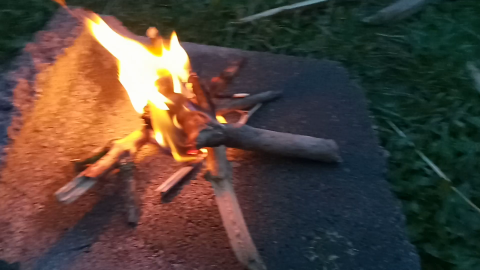fire: (57, 10, 245, 160)
